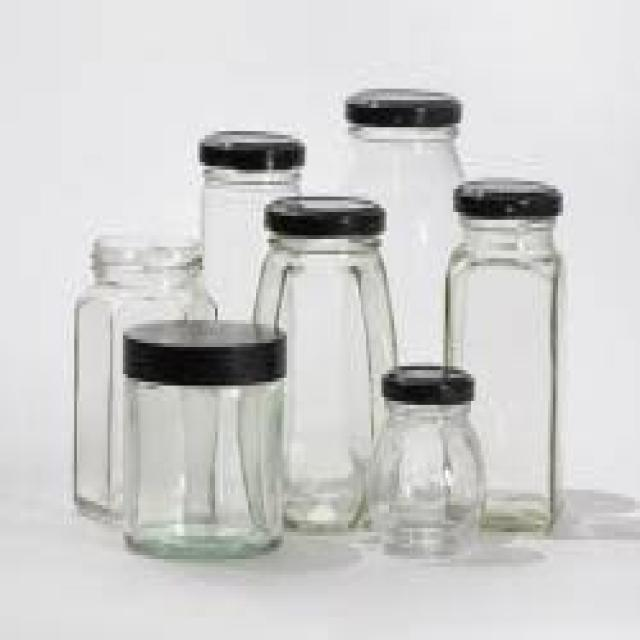Dry Waste: (116, 314, 290, 566), (362, 364, 488, 553)
